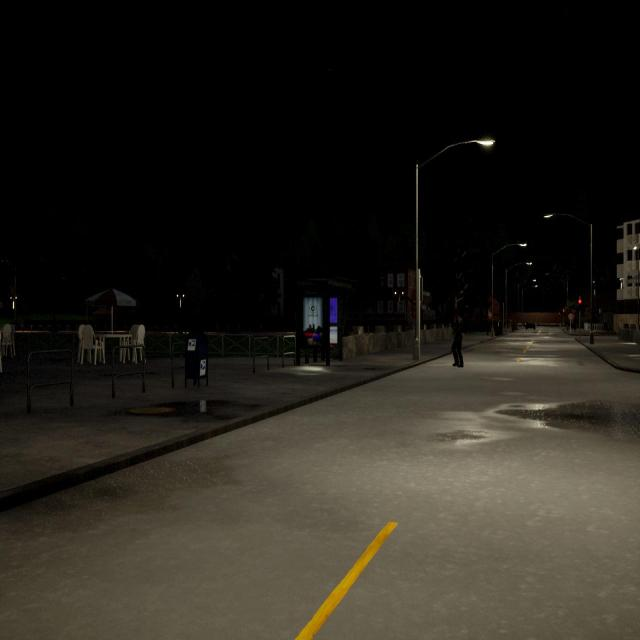Pedestrian: (451, 310, 463, 368)
Traffic_Signs: (568, 313, 574, 320)
Vehicle: (525, 321, 536, 330)
traffic_light: (420, 278, 423, 300), (578, 299, 581, 311), (562, 309, 565, 316), (558, 312, 560, 318)
